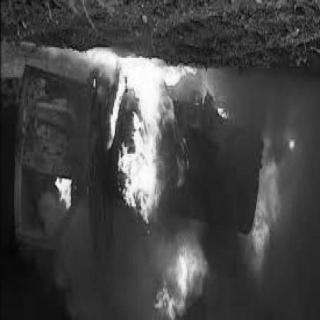Fire: (77, 46, 296, 320), (47, 162, 80, 220)
